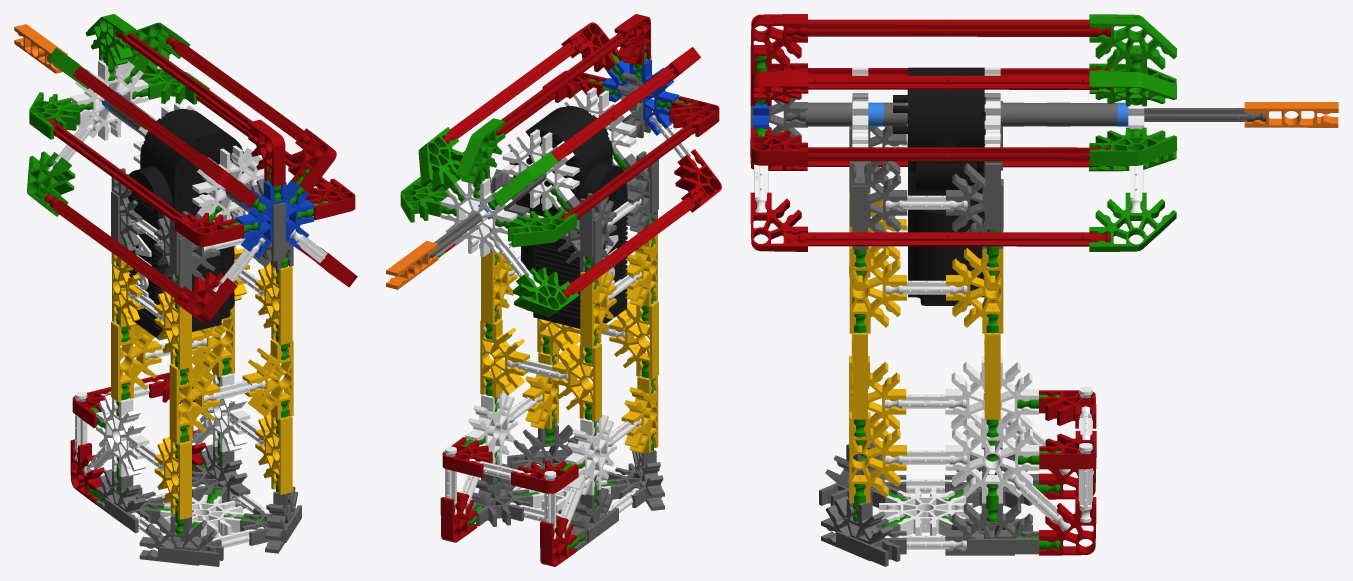
3 renders of one model, left to right at view 1: azimuth 30°, elevation 25°; view 2: azimuth 150°, elevation 25°; view 3: azimuth 270°, elevation 25°, orthographic. The views are drawn at different scales.
Visible parts, largest first — view 1: S1_L13.004, S1_L13.005, S1_L13.003, S1_L13.001, S1_L13.002, S1_L13.008, S1_L13.006, S1_L13; view 2: S1_L13.004, S1_L13.003, S1_L13.005, S1_L13.001, S1_L13.002, S1_L13.008, S1_L13.006, S1_L13; view 3: S1_L13.004, S1_L13.001, S1_L13.003, S1_L13.002, S1_L13.005, S1_L13.008, S1_L13.
Part boxes in pixels (x1=…): S1_L13.004: x1=44, y1=30, x2=357, y2=504; S1_L13.005: x1=111, y1=245, x2=293, y2=519; S1_L13.003: x1=47, y1=60, x2=327, y2=547; S1_L13.001: x1=47, y1=55, x2=301, y2=566; S1_L13.002: x1=27, y1=14, x2=327, y2=534; S1_L13.008: x1=126, y1=109, x2=243, y2=340; S1_L13.006: x1=236, y1=180, x2=314, y2=258; S1_L13: x1=14, y1=24, x2=67, y2=73; S1_L13.004: x1=420, y1=14, x2=721, y2=566; S1_L13.003: x1=435, y1=87, x2=701, y2=539; S1_L13.005: x1=480, y1=232, x2=658, y2=453; S1_L13.001: x1=429, y1=72, x2=664, y2=551; S1_L13.002: x1=400, y1=45, x2=691, y2=551; S1_L13.008: x1=509, y1=106, x2=627, y2=328; S1_L13.006: x1=602, y1=59, x2=679, y2=135; S1_L13: x1=386, y1=240, x2=438, y2=289; S1_L13.004: x1=750, y1=14, x2=1110, y2=555; S1_L13.001: x1=750, y1=98, x2=1266, y2=566; S1_L13.003: x1=754, y1=67, x2=1144, y2=549; S1_L13.002: x1=755, y1=14, x2=1176, y2=549; S1_L13.005: x1=849, y1=192, x2=1003, y2=503; S1_L13.008: x1=893, y1=67, x2=985, y2=305; S1_L13: x1=1244, y1=102, x2=1338, y2=127.
Size of the model in its own units: 0.8428 by 2.19 by 2.32.
